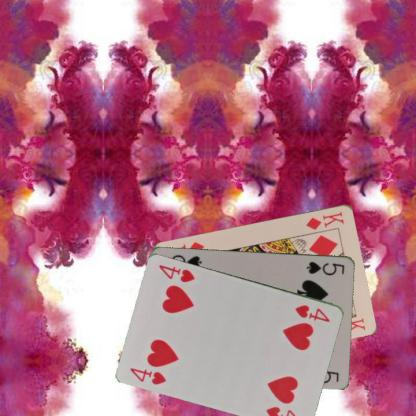4h: (292, 302, 332, 323), (128, 365, 168, 386)
5s: (304, 259, 346, 277)
Kd: (304, 209, 345, 231)
